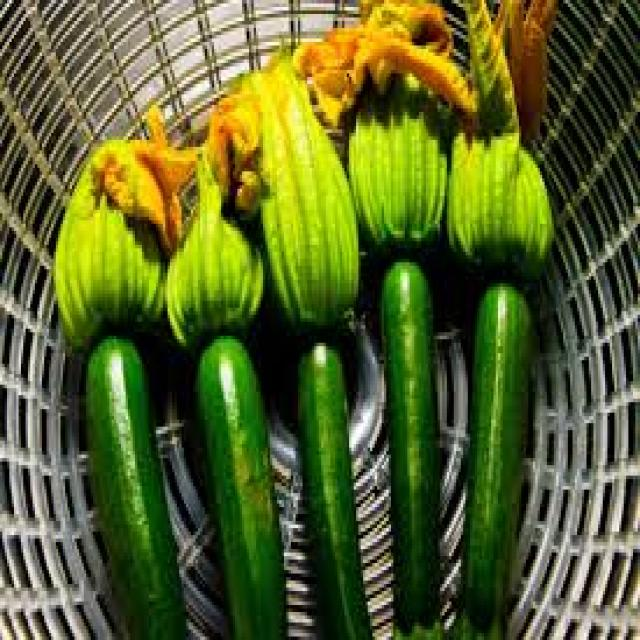Zucchini: (301, 345, 369, 640)
